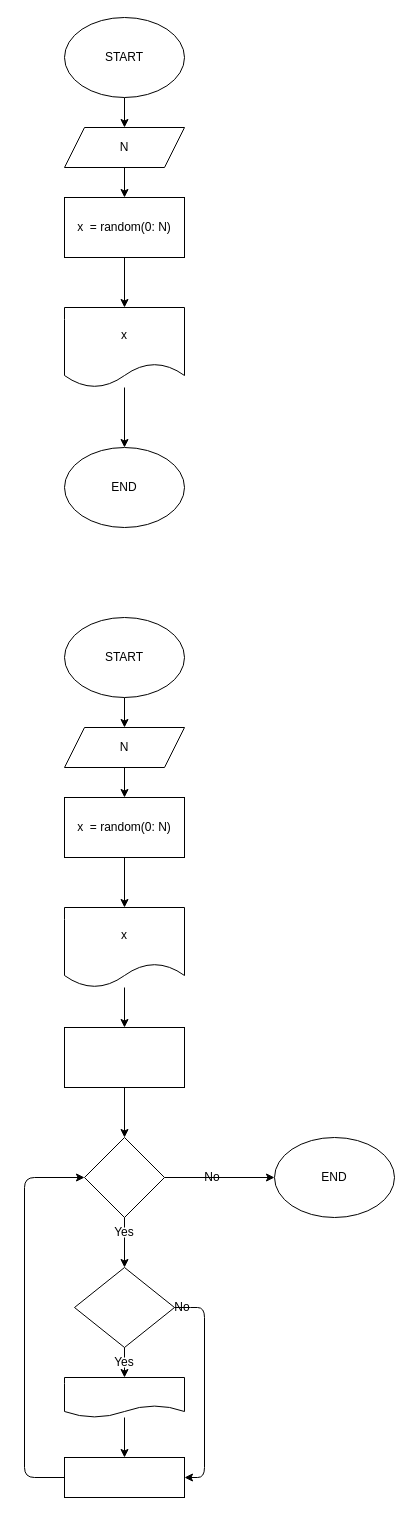
This 412x1515 diagram has some shape labels left out. The box of each missing label's shape, as (x1, y1, x2, y2) in pixels:
even: (64, 1376, 184, 1418)
even += 1: (64, 1456, 184, 1498)
even <= N?: (84, 1136, 164, 1218)
even = 1: (64, 1026, 184, 1088)
even%2 == 0?: (74, 1266, 174, 1348)
